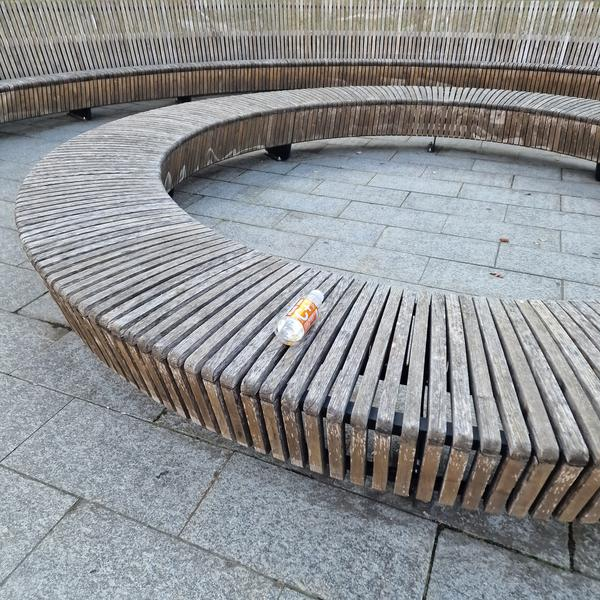plastic_bottle: (267, 279, 333, 352)
